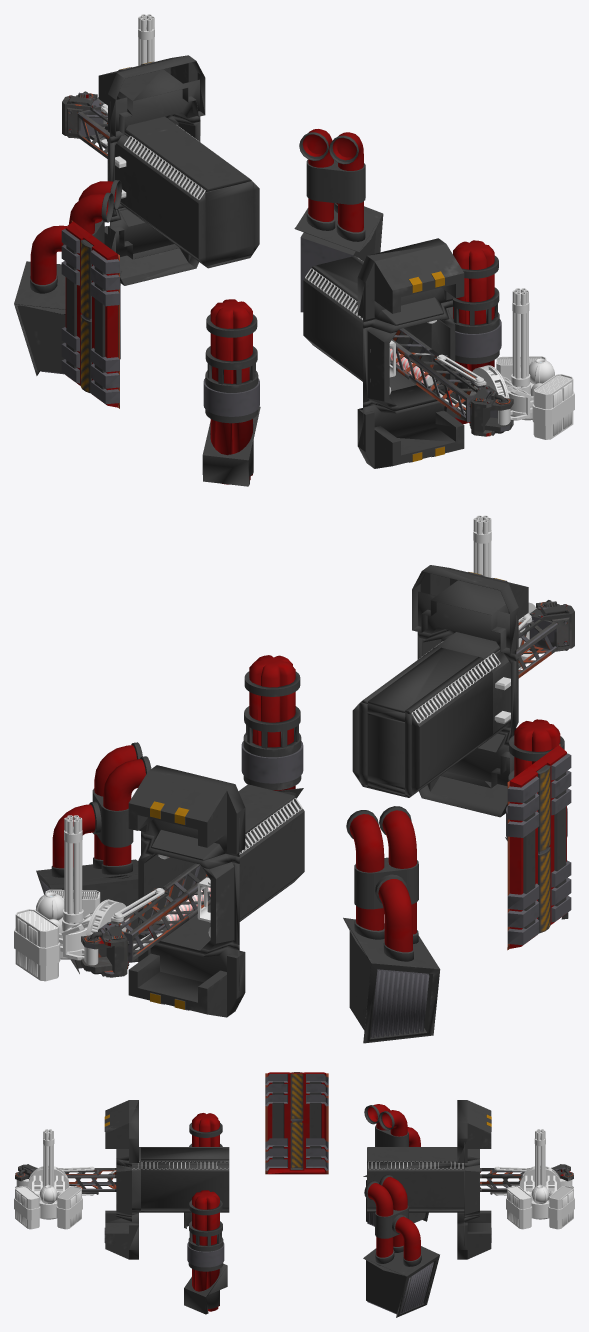
The model's file is Engineering_Objects.fbx.
The picture shows the model from 3 angles, top to bottom: view 1: azimuth 30°, elevation 25°; view 2: azimuth 150°, elevation 25°; view 3: azimuth 270°, elevation 25°; orthographic projection. The views are drawn at different scales.
Visible parts, largest first — view 1: PDC_Pivot.005_5, Aft_Section_Aft_Turret_Nest_Railings_Upper_6, Tank1, Sealed_Hatch, Aft_Section_Aft_Turret_Nest_Railings_Upper_1, PDC_Pivot.005_1, Piping2, Aft_Section_Aft_Turret_Nest_Railings_Upper_3, Tank2, PDC_Main_Body.004, Aft_Section_Aft_Turret_Nest_Railings_Upper_7, PDC_Pivot.005_3 (+7 smaller); view 2: Aft_Section_Aft_Turret_Nest_Railings_Upper_6, PDC_Pivot.005_5, Sealed_Hatch, Piping1, PDC_Pivot.005_1, Filter2, Tank2, Aft_Section_Aft_Turret_Nest_Railings_Upper_1, PDC_Pivot.005_3, Piping2, PDC_Main_Body.005, Aft_Section_Aft_Turret_Nest_Railings_Upper_3 (+7 smaller); view 3: Aft_Section_Aft_Turret_Nest_Railings_Upper_6, Sealed_Hatch, PDC_Pivot.005_5, Tank2, Filter1, Piping2, PDC_Main_Body.004, PDC_Main_Body.005, PDC_Pivot.005_1, Aft_Section_Aft_Turret_Nest_Railings_Upper_1, Piping1, PDC_Pivot.005_3 (+7 smaller).
Boxes of the visible parts, x1=… form: PDC_Pivot.005_5: x1=107, y1=114, x2=259, y2=268; Aft_Section_Aft_Turret_Nest_Railings_Upper_6: x1=303, y1=256, x2=455, y2=411; Tank1: x1=202, y1=299, x2=260, y2=486; Sealed_Hatch: x1=61, y1=220, x2=119, y2=408; Aft_Section_Aft_Turret_Nest_Railings_Upper_1: x1=357, y1=238, x2=464, y2=325; PDC_Pivot.005_1: x1=98, y1=55, x2=205, y2=136; Piping2: x1=299, y1=129, x2=365, y2=241; Aft_Section_Aft_Turret_Nest_Railings_Upper_3: x1=357, y1=392, x2=464, y2=468; Tank2: x1=453, y1=240, x2=501, y2=424; PDC_Main_Body.004: x1=484, y1=356, x2=574, y2=439; Aft_Section_Aft_Turret_Nest_Railings_Upper_7: x1=409, y1=349, x2=513, y2=436; PDC_Pivot.005_3: x1=104, y1=207, x2=198, y2=285; Aft_Section_Aft_Turret_Nest_Railings_Upper_6: x1=352, y1=629, x2=518, y2=797; PDC_Pivot.005_5: x1=138, y1=784, x2=304, y2=954; Sealed_Hatch: x1=507, y1=743, x2=571, y2=950; Piping1: x1=346, y1=806, x2=418, y2=961; PDC_Pivot.005_1: x1=128, y1=765, x2=245, y2=860; Filter2: x1=343, y1=917, x2=440, y2=1043; Tank2: x1=241, y1=655, x2=303, y2=798; Aft_Section_Aft_Turret_Nest_Railings_Upper_1: x1=412, y1=565, x2=528, y2=654; PDC_Pivot.005_3: x1=128, y1=934, x2=245, y2=1017; Piping2: x1=51, y1=742, x2=151, y2=878; PDC_Main_Body.005: x1=14, y1=889, x2=112, y2=981; Aft_Section_Aft_Turret_Nest_Railings_Upper_3: x1=419, y1=731, x2=514, y2=817; Aft_Section_Aft_Turret_Nest_Railings_Upper_6: x1=115, y1=1147, x2=229, y2=1218; Sealed_Hatch: x1=265, y1=1072, x2=328, y2=1174; PDC_Pivot.005_5: x1=367, y1=1147, x2=481, y2=1221; Tank2: x1=184, y1=1190, x2=227, y2=1314; Filter1: x1=363, y1=1246, x2=439, y2=1317; Piping2: x1=364, y1=1174, x2=421, y2=1266; PDC_Main_Body.004: x1=14, y1=1168, x2=82, y2=1229; PDC_Main_Body.005: x1=506, y1=1168, x2=574, y2=1229; PDC_Pivot.005_1: x1=457, y1=1100, x2=491, y2=1165; Aft_Section_Aft_Turret_Nest_Railings_Upper_1: x1=104, y1=1100, x2=138, y2=1162; Piping1: x1=364, y1=1104, x2=420, y2=1146; PDC_Pivot.005_3: x1=457, y1=1210, x2=491, y2=1259.
Size of the model in its own units: 24.02 by 14.18 by 46.31.
